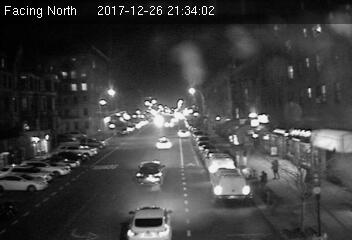car: (124, 207, 173, 240), (135, 161, 166, 185), (155, 136, 172, 152)
pedestrian: (271, 159, 281, 180)
truck: (210, 169, 250, 202)
